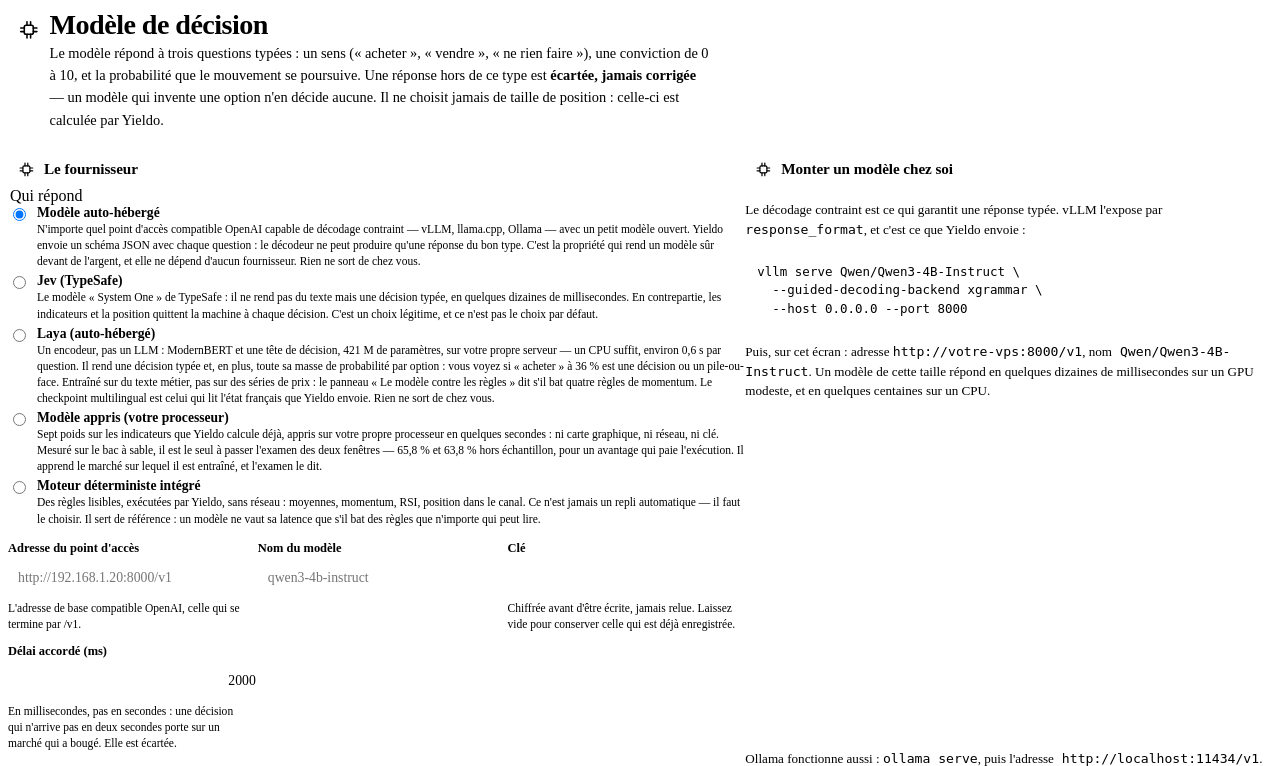
Modèle de décision — Laya › offers Laya as a fourth provider, with an address and no model name
The image size is (1280, 766).
Click the radio button labelled "Laya (auto-hébergé)": click(20, 335) [13, 329, 26, 342]
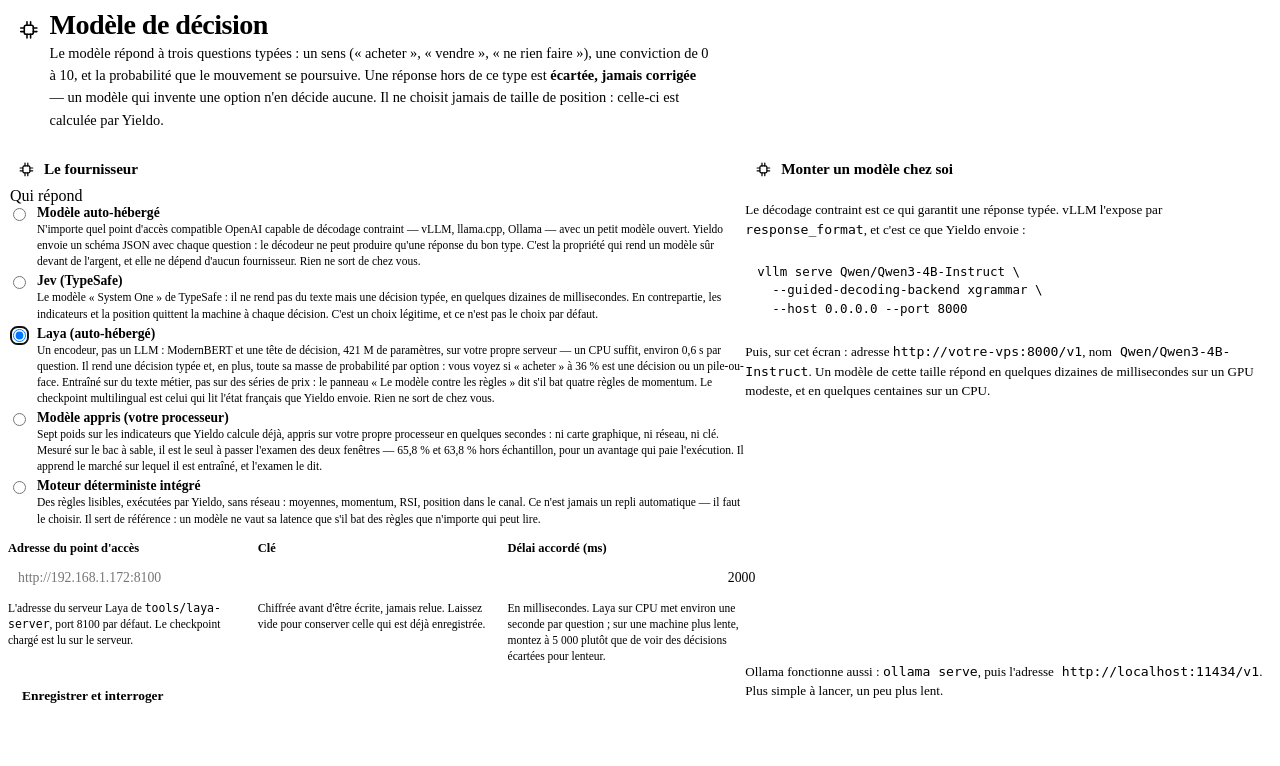
Result: the field with placeholder "http://192.168.1.172:8100" is shown at [8, 560, 266, 596]
Result: the text labelled "Nom du modèle" is gone
